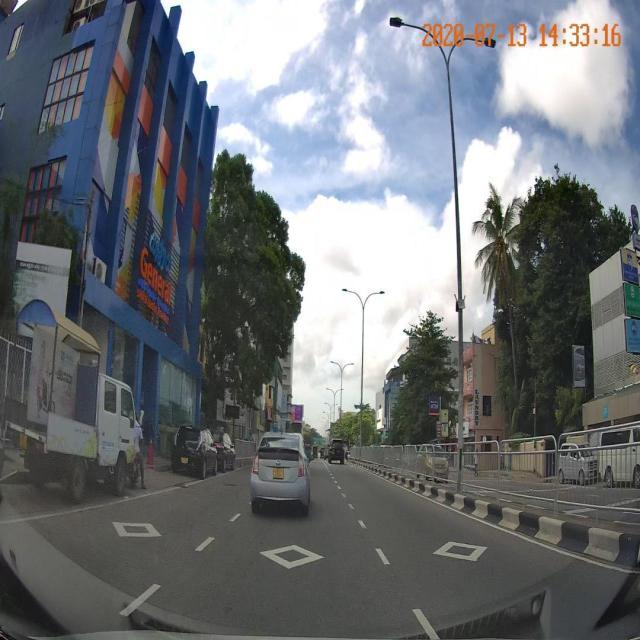Liniya 1: (406, 488, 638, 577), (0, 473, 222, 526), (115, 582, 163, 619), (411, 607, 442, 640), (194, 536, 216, 552), (373, 547, 391, 565), (227, 511, 242, 523), (357, 519, 368, 531), (347, 503, 355, 510)
Romb: (258, 540, 322, 568), (435, 541, 484, 564), (114, 518, 162, 536)
